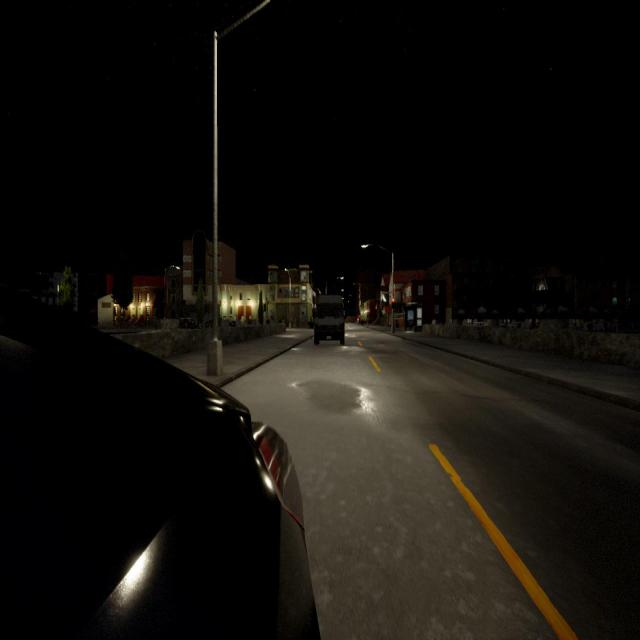Vehicle: (0, 287, 319, 637), (313, 294, 347, 345), (205, 312, 230, 326), (178, 318, 198, 328)
traffic_light: (392, 297, 396, 309)
